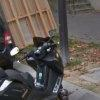Motorcycle: (4, 42, 81, 100)
